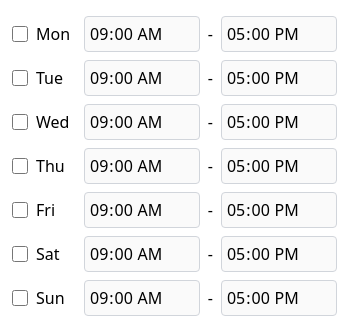
Scenario: AvailabilityPicker Component › enables time inputs when checkbox is checked
The width and height of the screenshot is (354, 333).
Expected: the 1st time field showing "09:00" is disabled, [84, 16, 200, 52]
Click the checkbox next to "Mon" at (20, 34), box [12, 26, 28, 42]
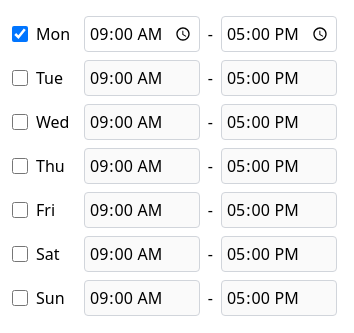
Expected: the 1st time field showing "09:00" is enabled, [84, 16, 200, 52]
